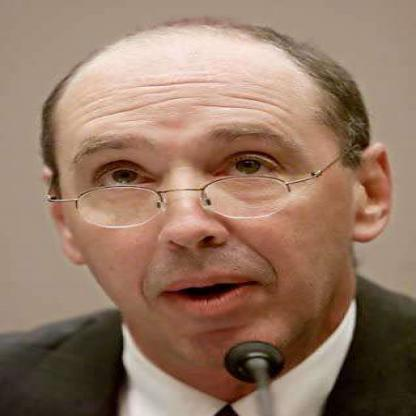face: (66, 25, 355, 368)
